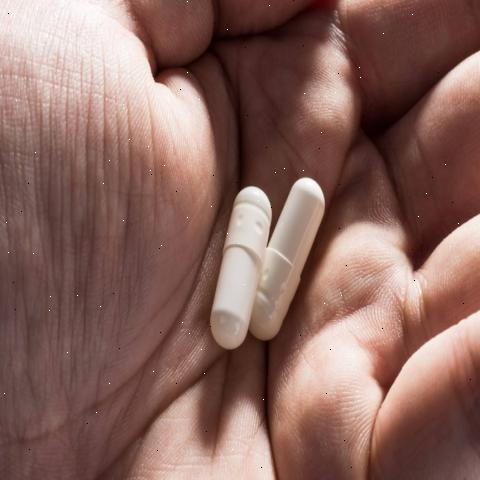Pill: (252, 156, 338, 352), (216, 172, 272, 358)
